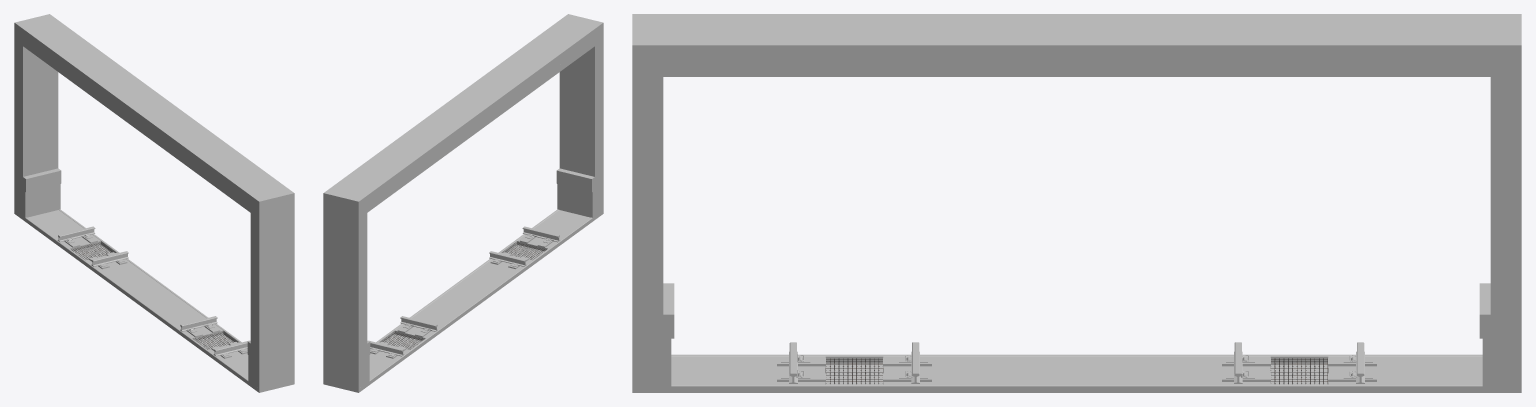
Rendered from SM_Tunnel_B_1m.fbx.
The picture shows the model from 3 angles, left to right: view 1: azimuth 30°, elevation 25°; view 2: azimuth 150°, elevation 25°; view 3: azimuth 270°, elevation 25°; orthographic projection. The views are drawn at different scales.
Visible parts, largest first — view 1: SM_Tunnel_B_1m; view 2: SM_Tunnel_B_1m; view 3: SM_Tunnel_B_1m.
Boxes of the visible parts, bbox=[...] form: SM_Tunnel_B_1m: bbox=[14, 14, 294, 392]; SM_Tunnel_B_1m: bbox=[323, 14, 603, 392]; SM_Tunnel_B_1m: bbox=[632, 14, 1521, 392].
Size of the model in its own units: 100 by 517 by 1200.
